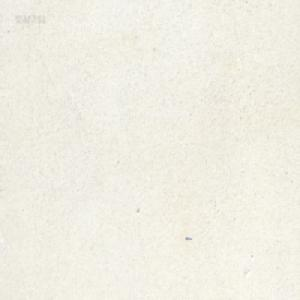Nail: (185, 235, 192, 240)
